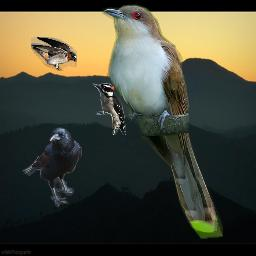Crow: (20, 124, 82, 208)
Cuckoo: (102, 4, 223, 239)
Swallow: (31, 37, 77, 71)
Woodpecker: (93, 83, 126, 135)
